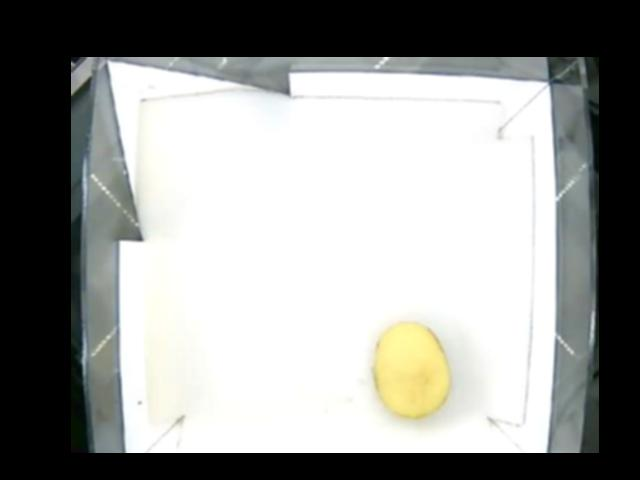Potato: (371, 321, 451, 420)
